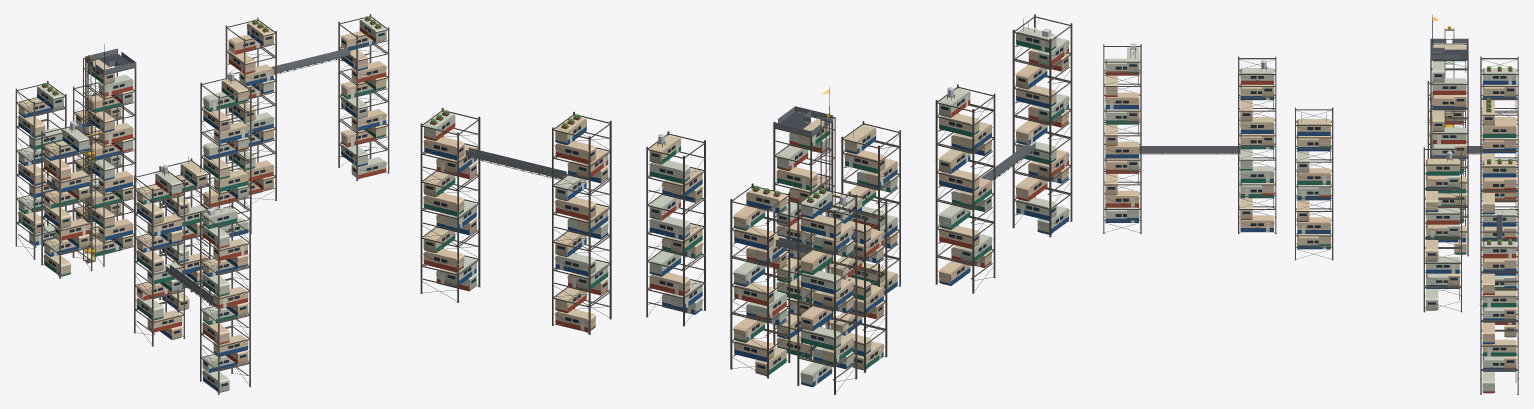
3 views of the same model, side by side, from view 1: azimuth 30°, elevation 25°; view 2: azimuth 150°, elevation 25°; view 3: azimuth 270°, elevation 25° (orthographic). The views are drawn at different scales.
Parts seen in each view (by area): view 1: vertical_towers.lod1; view 2: vertical_towers.lod1; view 3: vertical_towers.lod1.
Part boxes in pixels (bbox=[...]): vertical_towers.lod1: bbox=[14, 14, 390, 394]; vertical_towers.lod1: bbox=[419, 14, 1073, 394]; vertical_towers.lod1: bbox=[1102, 14, 1519, 394].
Bounding box in the file's own units: 84.02 × 49.92 × 83.22.
